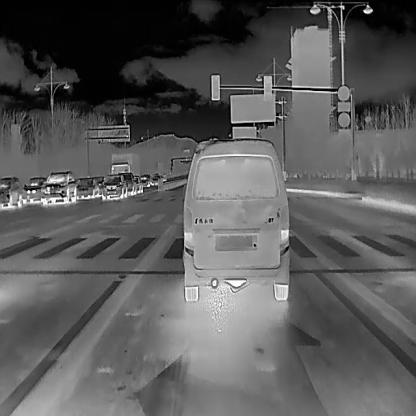car: (181, 137, 289, 303), (41, 171, 71, 204), (100, 173, 126, 198), (0, 175, 20, 207), (110, 152, 139, 174), (22, 175, 44, 203), (73, 177, 97, 198), (119, 172, 133, 194), (139, 174, 149, 184), (150, 172, 158, 184)
